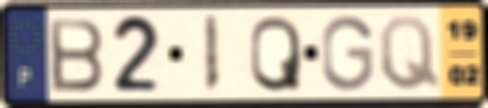2: (110, 10, 168, 99)
B: (46, 16, 107, 94)
G: (319, 13, 376, 94)
I: (201, 13, 221, 96)
Q: (376, 13, 443, 93), (248, 13, 305, 95)
